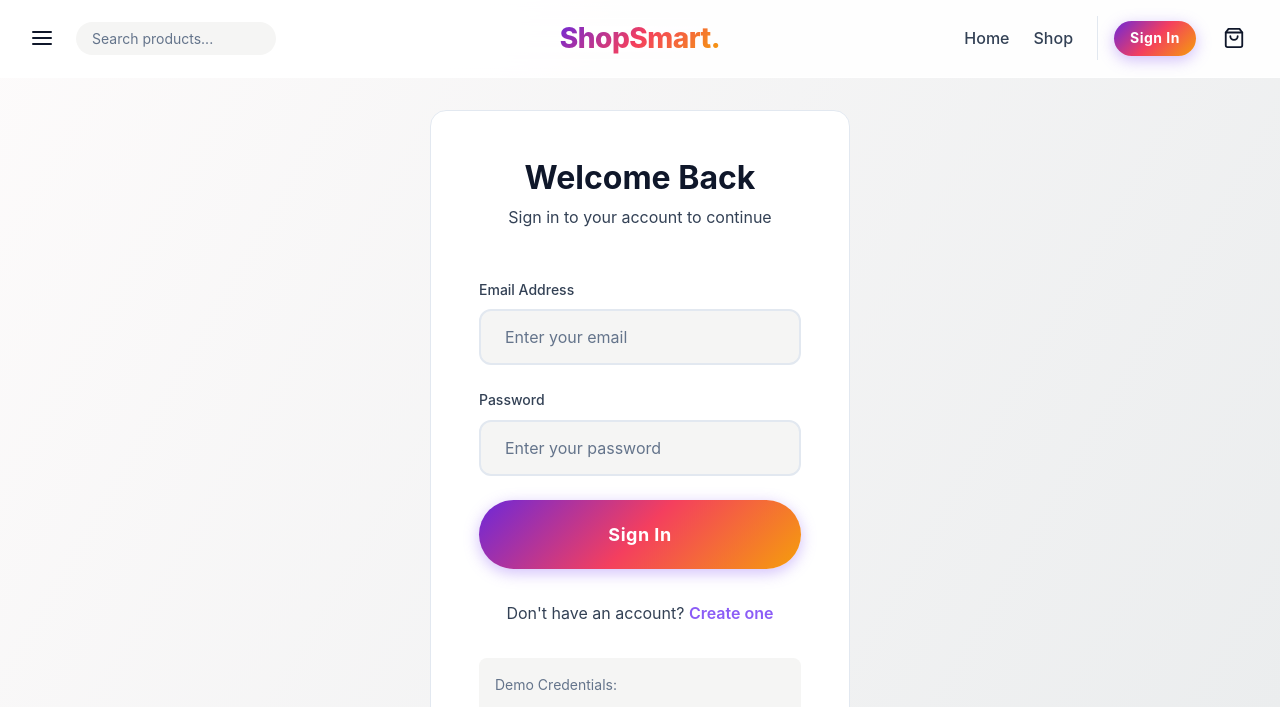
Test: E-Commerce User Flow › should show error on invalid login
The width and height of the screenshot is (1280, 707).
Type "wrong@example.com" into the field with id "email" at (640, 337), box top-left (479, 309), bottom-right (801, 365)
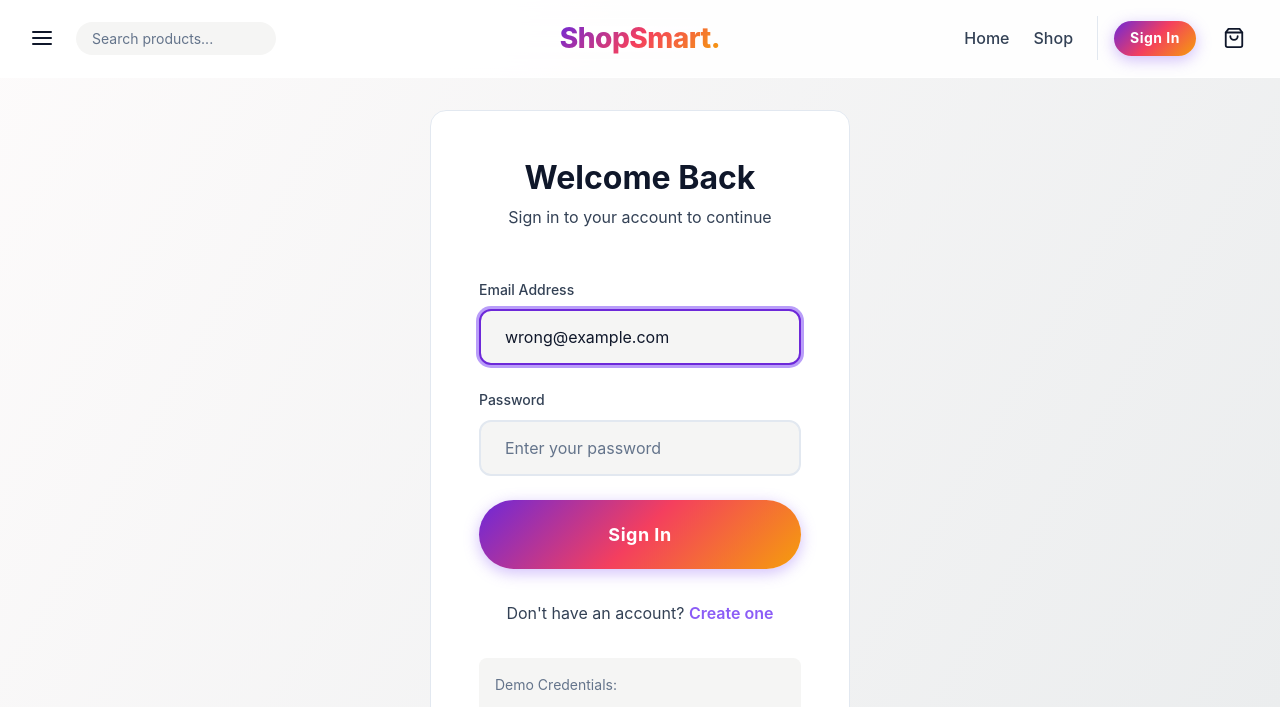
Type "wrongpassword" into the password field labelled "Password" at (640, 448), box top-left (479, 420), bottom-right (801, 476)
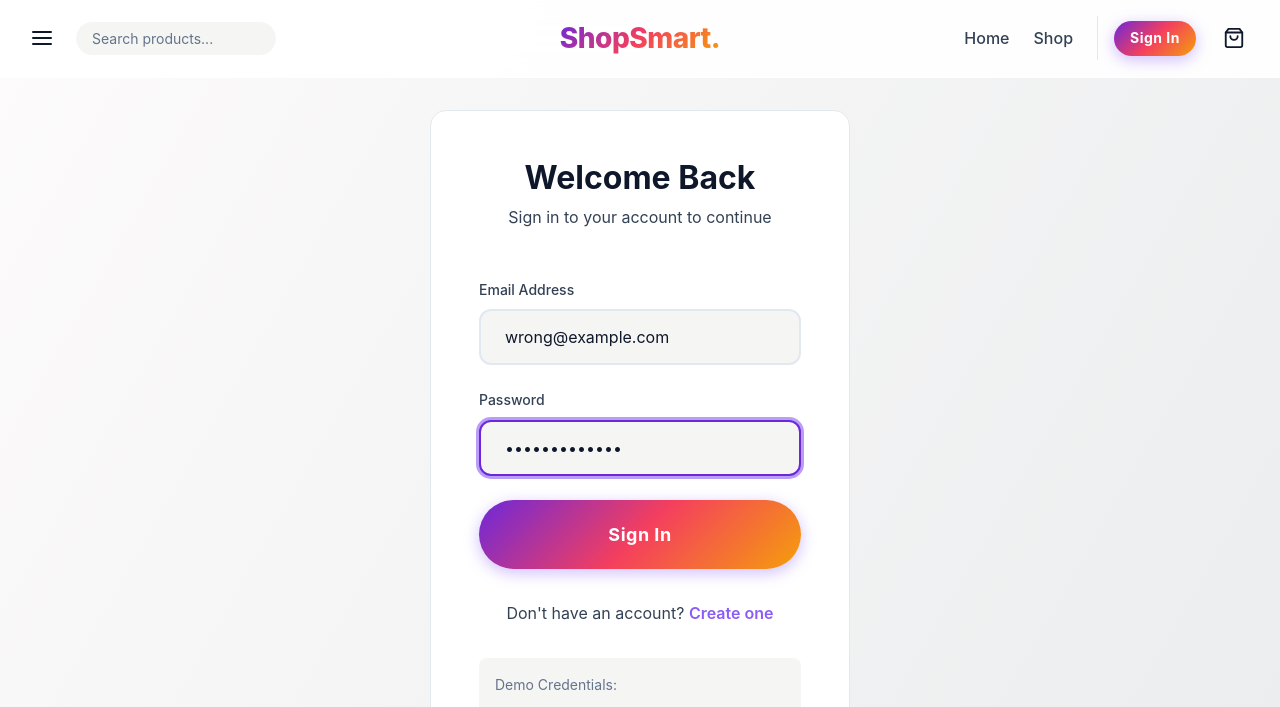
Click the submit button at (640, 535), box top-left (479, 500), bottom-right (801, 569)
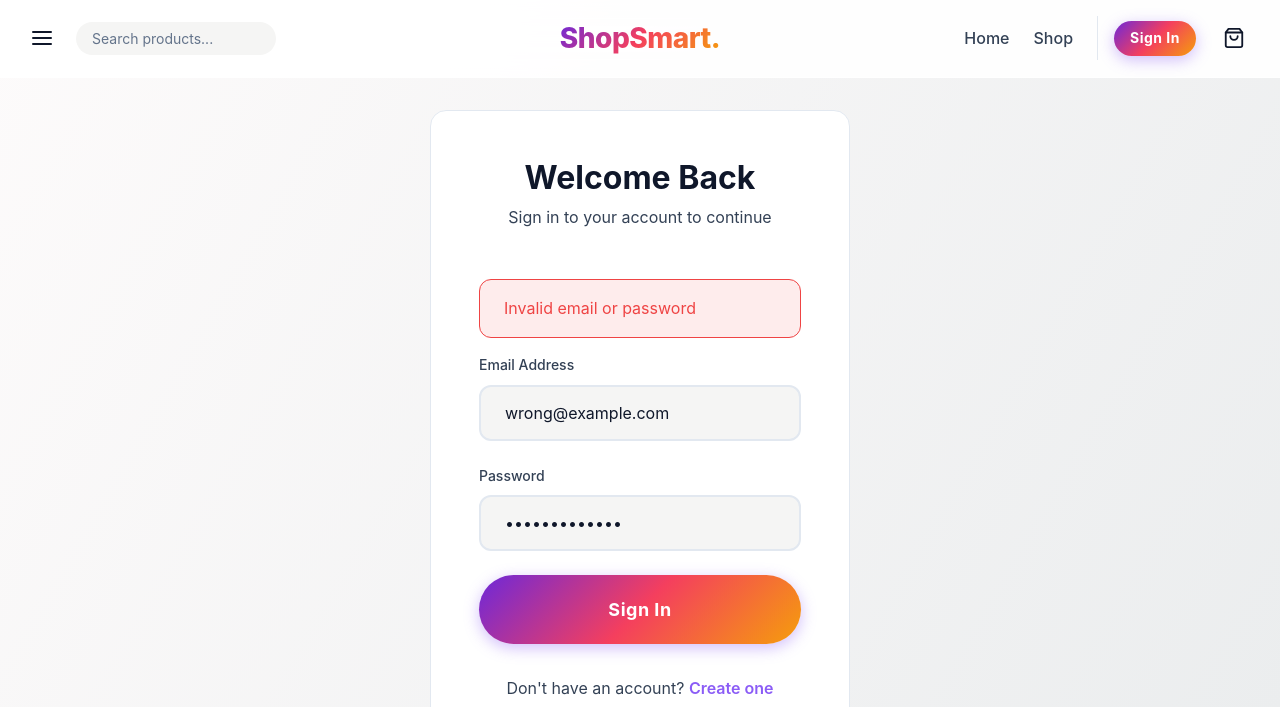
Expected: the text "Invalid email or password" is shown, top-left (479, 279), bottom-right (801, 338)
